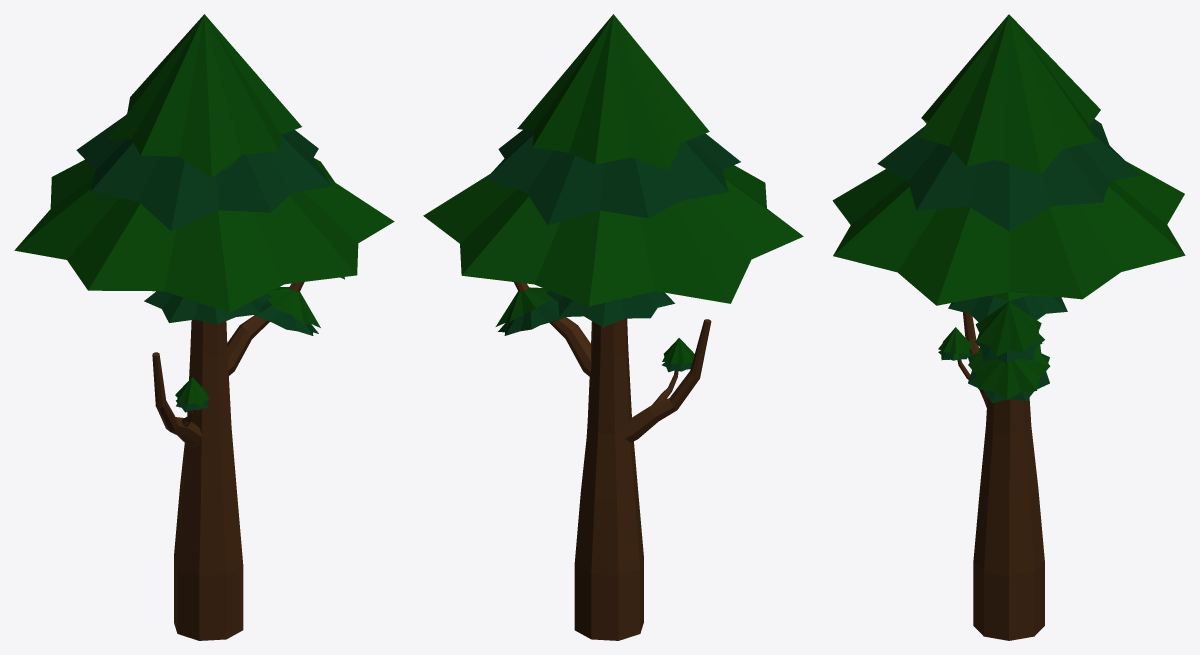
Rendered from Pine-Tree-3.fbx.
3 renders of one model, left to right at view 1: azimuth 30°, elevation 25°; view 2: azimuth 150°, elevation 25°; view 3: azimuth 270°, elevation 25°, orthographic.
Parts seen in each view (by area): view 1: Cylinder.009; view 2: Cylinder.009; view 3: Cylinder.009.
Part boxes in pixels (x1,y1,x2,y2): Cylinder.009: (14, 14, 394, 640); Cylinder.009: (423, 14, 803, 640); Cylinder.009: (832, 14, 1185, 640).
Size of the model in its own units: 817 by 1556 by 817.
